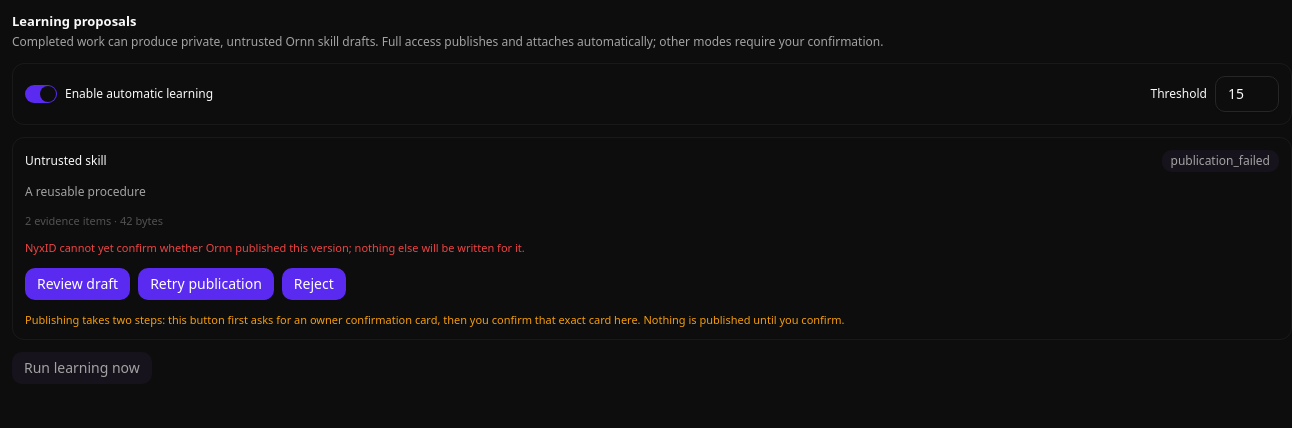
Test: AgentLearningReview › shows the server's reason when a reject is refused
Click the button "Reject" at (314, 284), box [282, 268, 346, 300]
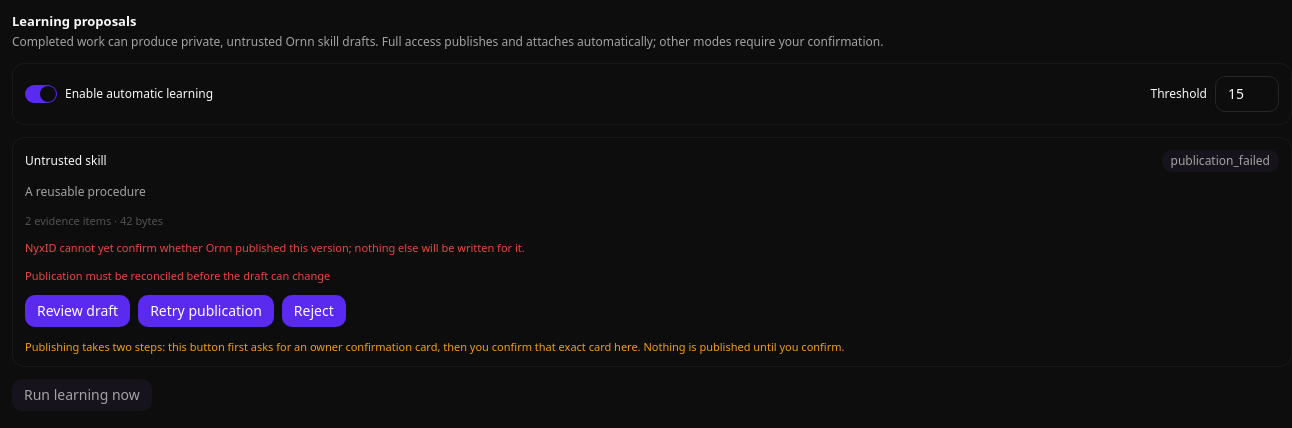
Now the text "Publication must be reconciled before the draft can change" is shown, box [25, 268, 330, 283]
